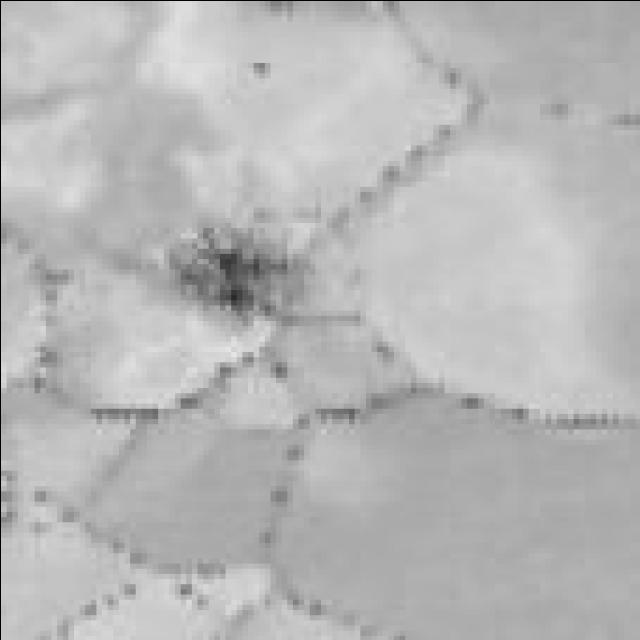good_void: (165, 223, 305, 324), (246, 57, 275, 84)
